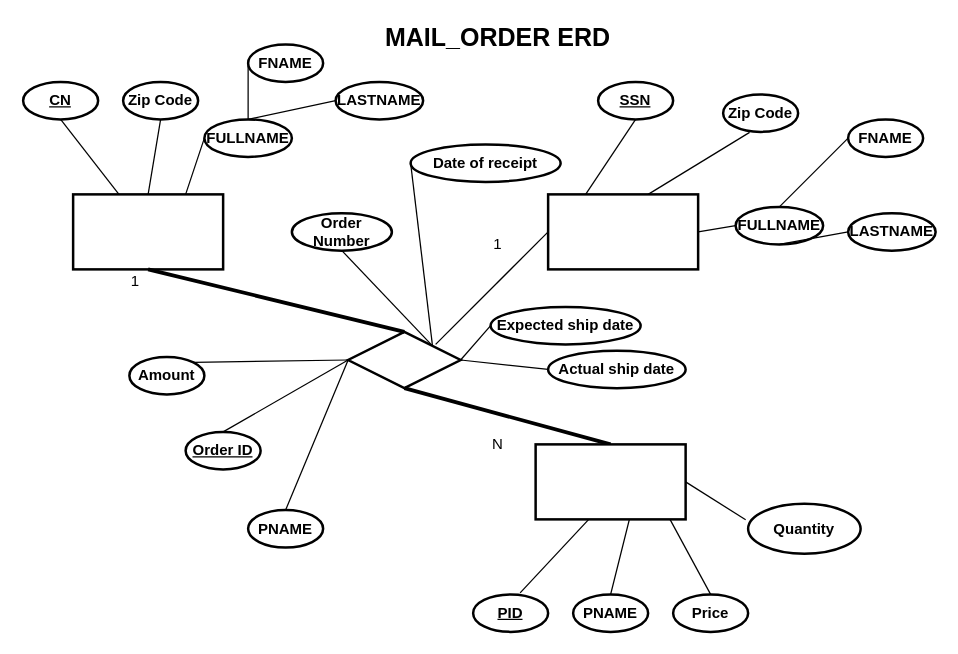
This 958x654 diagram has some shape labels left out. Here are the shapes that lost their labels. From the top down, the centre of each, then its label:
[147,231]: CUSTOMER
[622,231]: EMPLOYEE
[403,359]: order
[610,481]: PARTS
